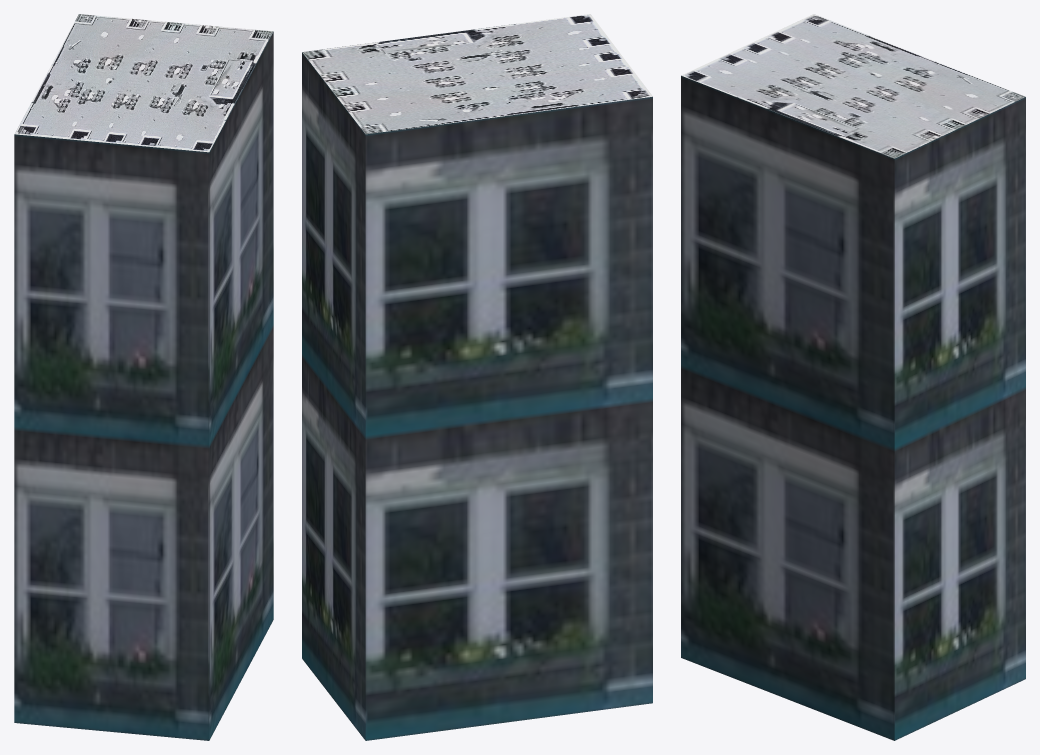
File: ResTex__1692.fbx
3 views of the same model, side by side, from view 1: azimuth 30°, elevation 25°; view 2: azimuth 150°, elevation 25°; view 3: azimuth 270°, elevation 25° (orthographic). The views are drawn at different scales.
Parts seen in each view (by area): view 1: CityEngineMaterial_11_m, CityEngineMaterial_m; view 2: CityEngineMaterial_11_m, CityEngineMaterial_m; view 3: CityEngineMaterial_11_m, CityEngineMaterial_m.
Part boxes in pixels (box(x1,y1,x2,y2)): CityEngineMaterial_11_m: box(14, 31, 273, 740); CityEngineMaterial_m: box(15, 14, 273, 152); CityEngineMaterial_11_m: box(302, 52, 652, 740); CityEngineMaterial_m: box(302, 14, 652, 134); CityEngineMaterial_11_m: box(681, 75, 1025, 740); CityEngineMaterial_m: box(681, 14, 1025, 158).
Size of the model in its own units: 3.2 by 6 by 3.22.
2 materials, 2 textured.
